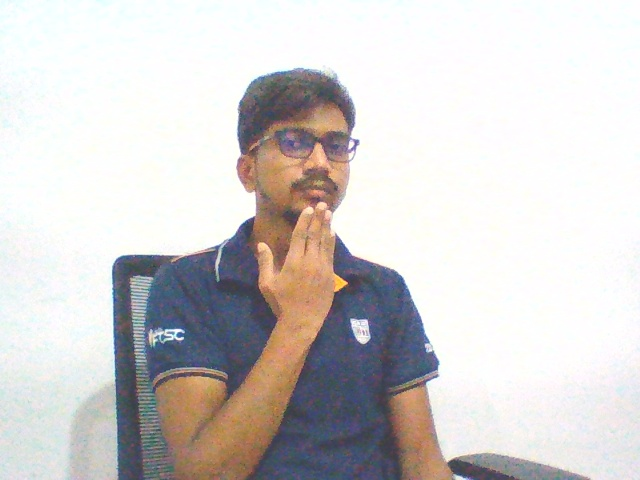mango: (252, 194, 339, 344)
